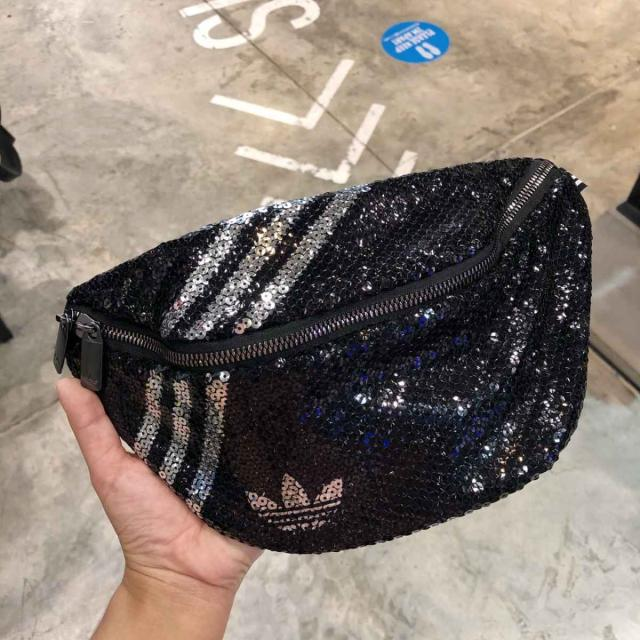Handbag: (52, 157, 595, 548)
